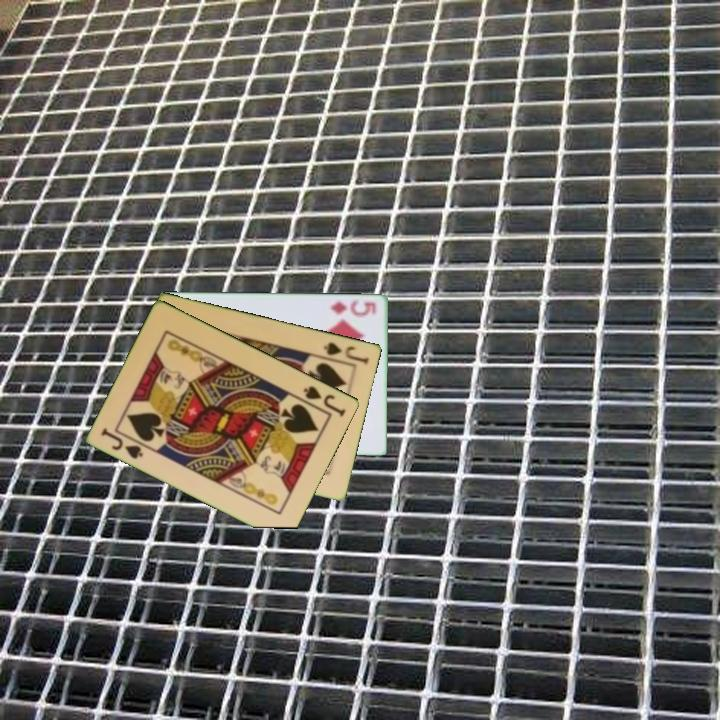5d: (327, 296, 379, 319)
Js: (98, 424, 146, 462), (300, 382, 349, 419), (321, 338, 372, 367)
